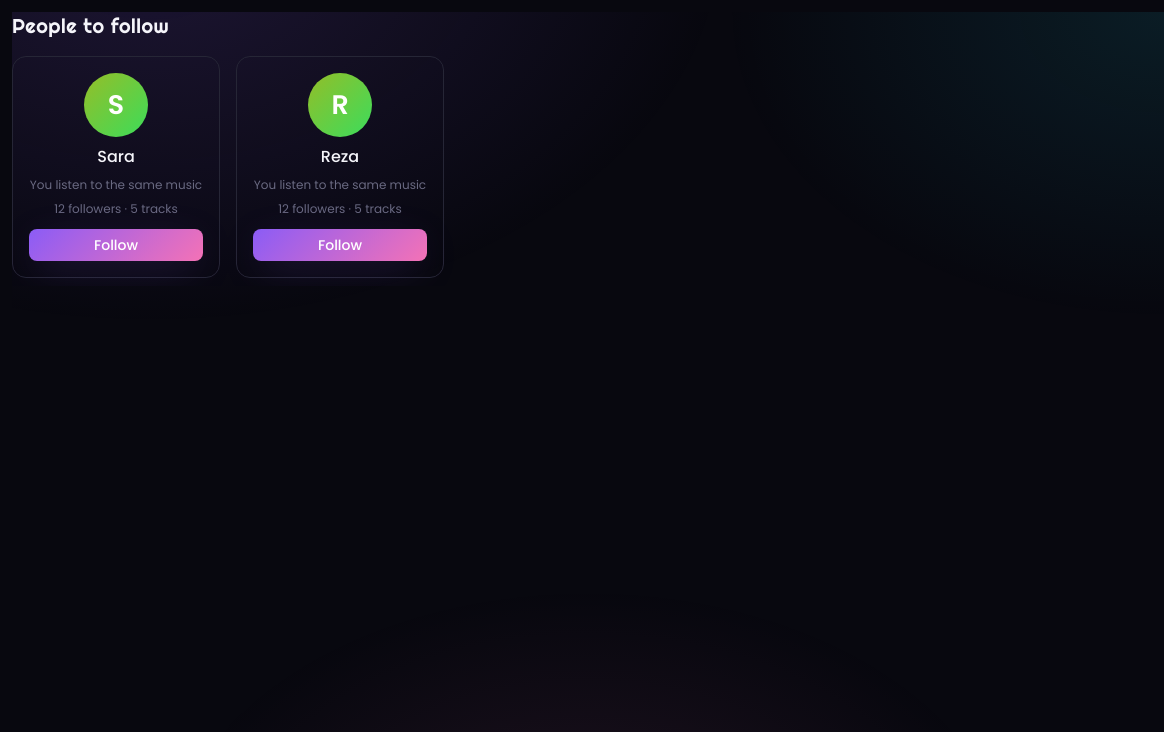
Test: SuggestedUserRail › when following fails › reports the failure only on the card that failed
The image size is (1164, 732).
Click the button "Follow" below "Sara" at (116, 245), box x1=29 y1=229 x2=203 y2=261
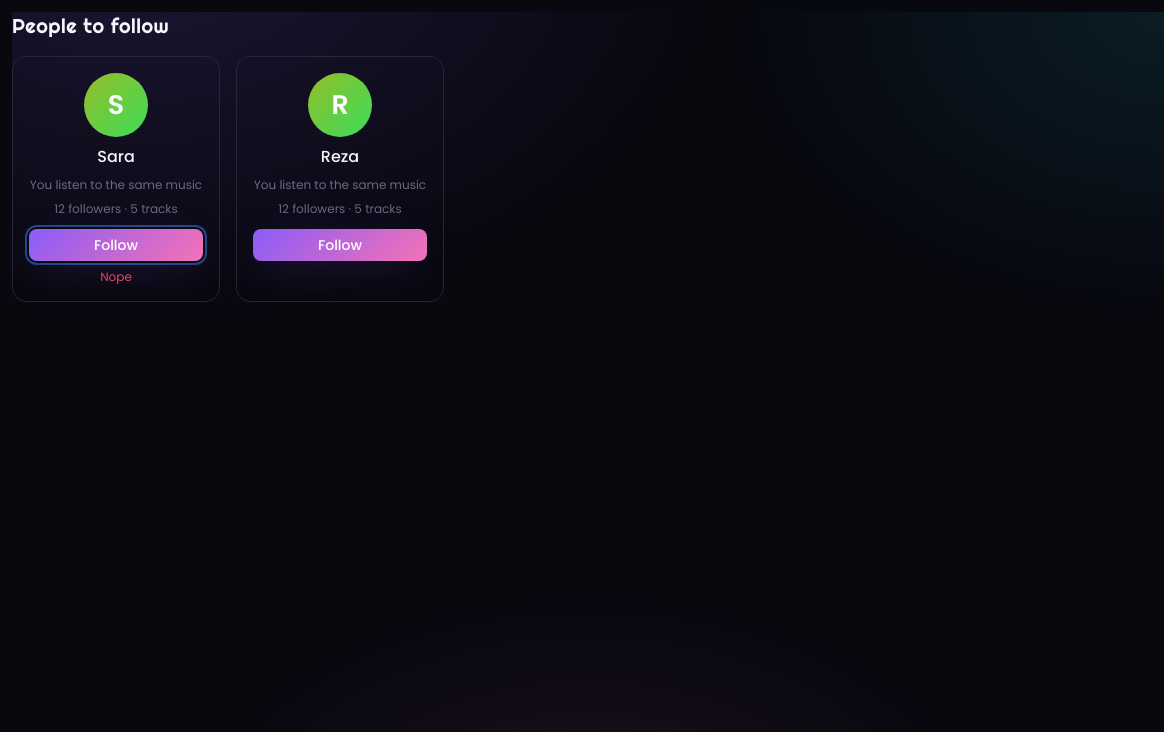
Now the number of messages is 1, box x1=100 y1=269 x2=132 y2=285
